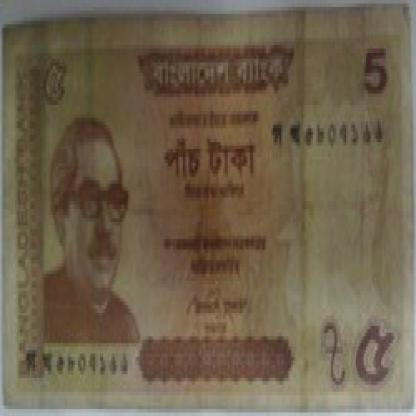Five Taka: (162, 132, 256, 184), (349, 319, 396, 392), (33, 48, 75, 125), (360, 45, 394, 101)
